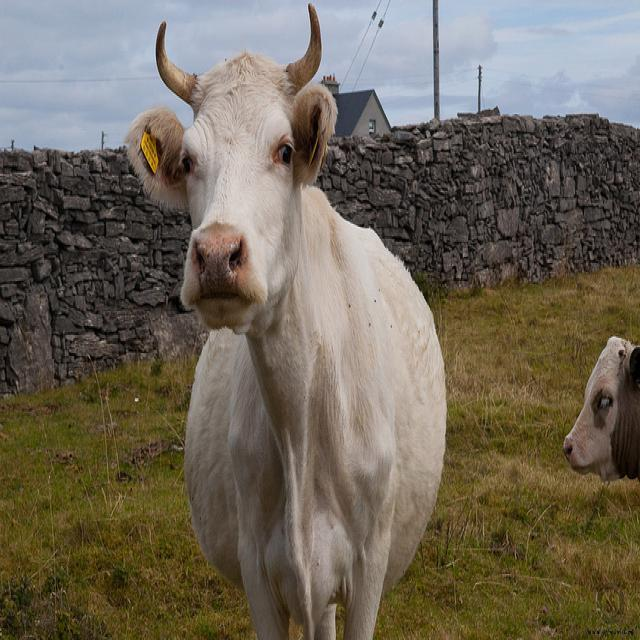cow: (120, 0, 446, 628), (560, 334, 638, 482)
